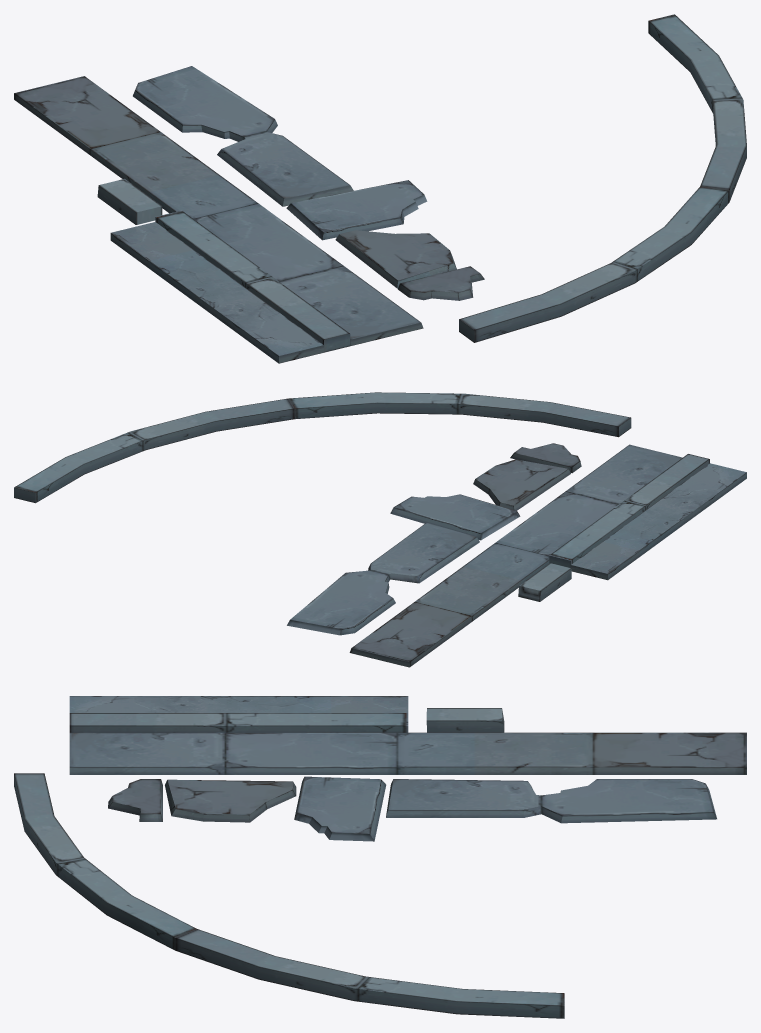
Rendered from 2_ChengZhen_XiaoZuJian_01.FBX.
3 views of the same model, one above another, from view 1: azimuth 30°, elevation 25°; view 2: azimuth 150°, elevation 25°; view 3: azimuth 270°, elevation 25° (orthographic). The views are drawn at different scales.
Visible parts, largest first — view 1: 2_ChengZhen_XiaoZuJian_03, 2_ChengZhen_XiaoZuJian_04, 2_ChengZhen_XiaoZuJian_08, 2_ChengZhen_XiaoZuJian_01, 2_ChengZhen_XiaoZuJian_02, 2_ChengZhen_XiaoZuJian_07, 2_ChengZhen_XiaoZuJian_06, 2_ChengZhen_XiaoZuJian_05, 2_ChengZhen_XiaoZuJian_09; view 2: 2_ChengZhen_XiaoZuJian_03, 2_ChengZhen_XiaoZuJian_04, 2_ChengZhen_XiaoZuJian_08, 2_ChengZhen_XiaoZuJian_01, 2_ChengZhen_XiaoZuJian_02, 2_ChengZhen_XiaoZuJian_07, 2_ChengZhen_XiaoZuJian_06, 2_ChengZhen_XiaoZuJian_09, 2_ChengZhen_XiaoZuJian_05; view 3: 2_ChengZhen_XiaoZuJian_03, 2_ChengZhen_XiaoZuJian_04, 2_ChengZhen_XiaoZuJian_08, 2_ChengZhen_XiaoZuJian_02, 2_ChengZhen_XiaoZuJian_01, 2_ChengZhen_XiaoZuJian_07, 2_ChengZhen_XiaoZuJian_06, 2_ChengZhen_XiaoZuJian_09, 2_ChengZhen_XiaoZuJian_05.
Part boxes in pixels (x1,y1,x2,y2): 2_ChengZhen_XiaoZuJian_03: [14, 76, 423, 345]; 2_ChengZhen_XiaoZuJian_04: [459, 14, 746, 342]; 2_ChengZhen_XiaoZuJian_08: [133, 66, 353, 206]; 2_ChengZhen_XiaoZuJian_01: [110, 222, 324, 363]; 2_ChengZhen_XiaoZuJian_02: [155, 210, 350, 352]; 2_ChengZhen_XiaoZuJian_07: [286, 180, 427, 240]; 2_ChengZhen_XiaoZuJian_06: [335, 230, 456, 288]; 2_ChengZhen_XiaoZuJian_05: [398, 266, 484, 300]; 2_ChengZhen_XiaoZuJian_09: [97, 178, 162, 224]; 2_ChengZhen_XiaoZuJian_03: [349, 444, 682, 667]; 2_ChengZhen_XiaoZuJian_04: [14, 392, 631, 503]; 2_ChengZhen_XiaoZuJian_08: [287, 522, 479, 635]; 2_ChengZhen_XiaoZuJian_01: [570, 463, 746, 580]; 2_ChengZhen_XiaoZuJian_02: [549, 454, 709, 567]; 2_ChengZhen_XiaoZuJian_07: [390, 494, 520, 540]; 2_ChengZhen_XiaoZuJian_06: [473, 459, 570, 510]; 2_ChengZhen_XiaoZuJian_09: [518, 563, 571, 601]; 2_ChengZhen_XiaoZuJian_05: [510, 443, 581, 473]; 2_ChengZhen_XiaoZuJian_03: [69, 732, 746, 774]; 2_ChengZhen_XiaoZuJian_04: [14, 773, 564, 1018]; 2_ChengZhen_XiaoZuJian_08: [386, 779, 716, 823]; 2_ChengZhen_XiaoZuJian_02: [69, 713, 408, 732]; 2_ChengZhen_XiaoZuJian_01: [69, 696, 408, 712]; 2_ChengZhen_XiaoZuJian_07: [294, 776, 386, 841]; 2_ChengZhen_XiaoZuJian_06: [165, 779, 296, 822]; 2_ChengZhen_XiaoZuJian_09: [426, 708, 504, 732]; 2_ChengZhen_XiaoZuJian_05: [108, 779, 162, 821].
Size of the model in its own units: 698 by 13.17 by 687.
1 material, 1 textured.
